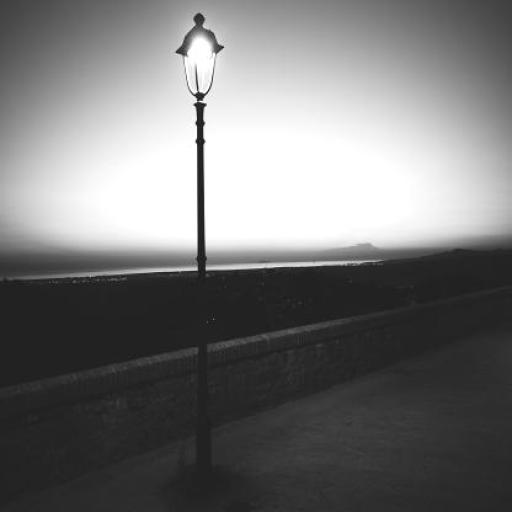street light: (175, 14, 223, 356)
